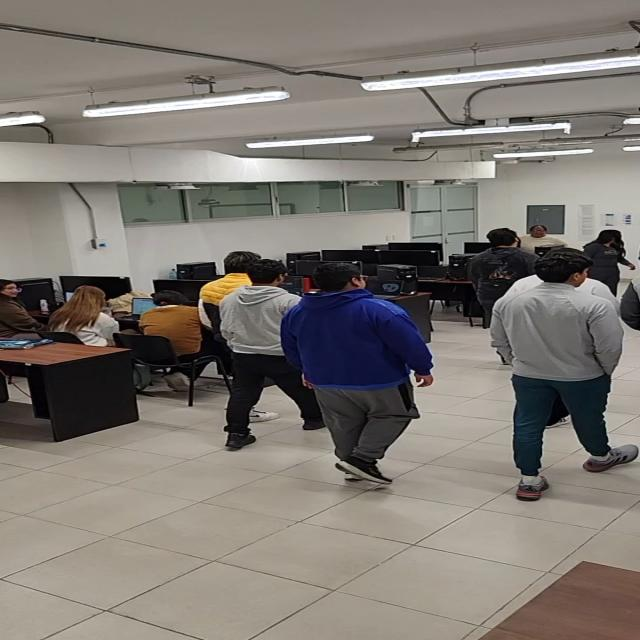Persona: (518, 254, 616, 460), (301, 263, 394, 458), (220, 266, 300, 430), (478, 228, 532, 305)
